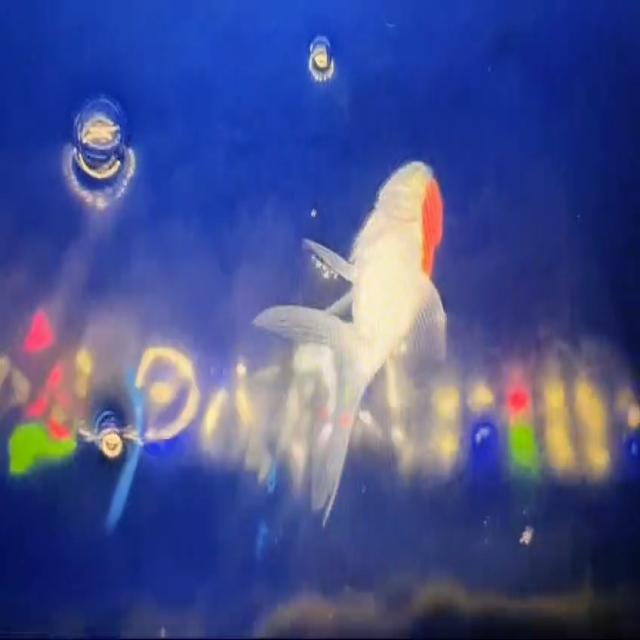fish: (250, 144, 446, 544)
